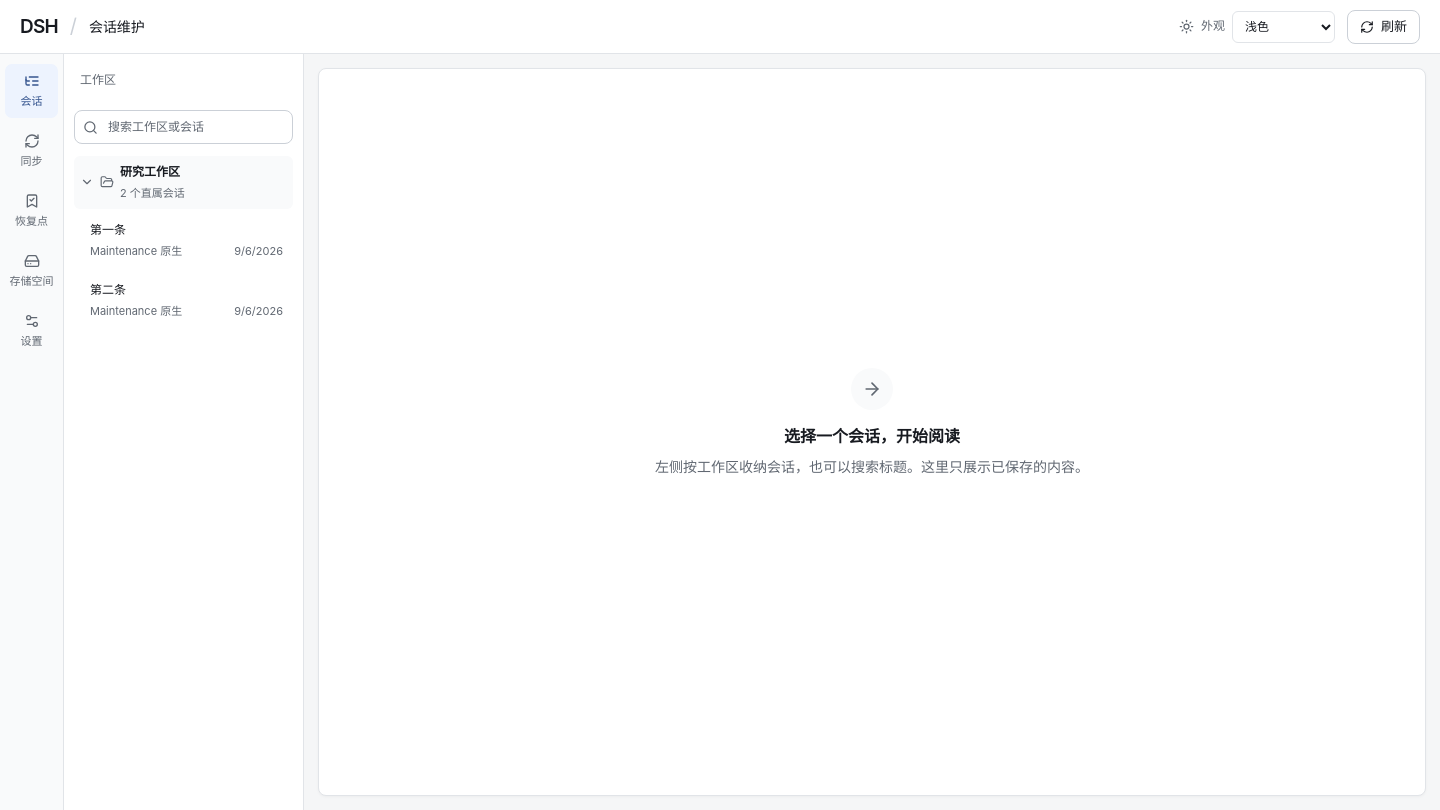
Scenario: reading-first dashboard behavior › keeps the directory available when reading fails and retries the selected session
Click the list item with test id "canonical-session-one": (186, 240) [80,212,293,269]
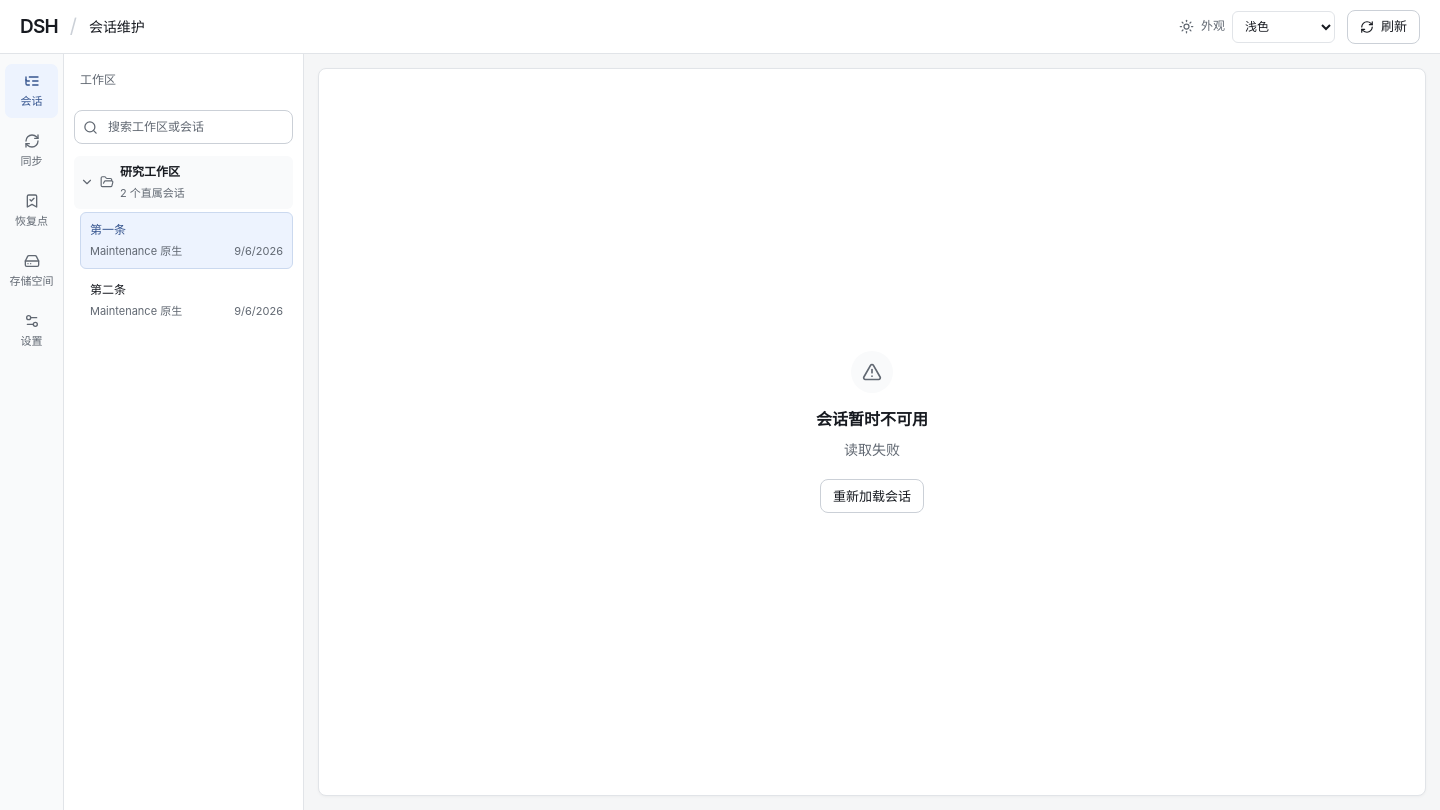
Expected: the element named "工作区与会话" is shown, [64,54,304,809]
Now the text "读取失败" is shown, box [844,439,900,461]
Click the button "重新加载会话": (872, 496) [820,479,924,513]
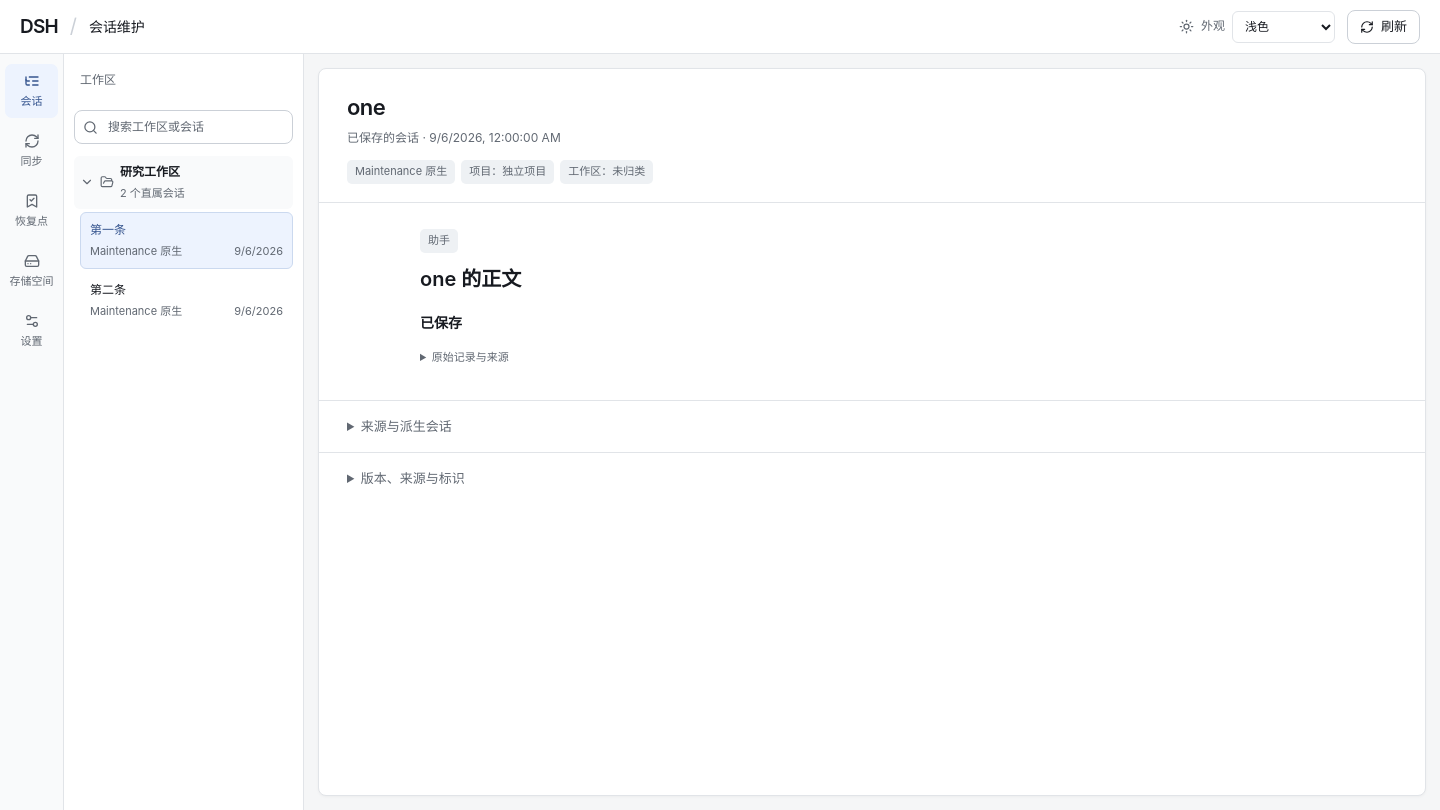
Now the element with class "safe-markdown" is shown, box [420,267,521,331]
